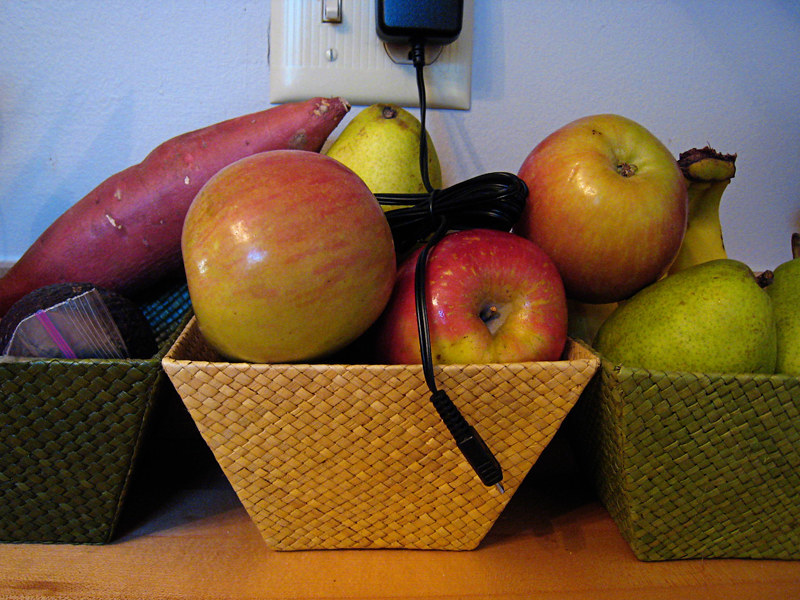apple: (174, 145, 399, 369), (516, 108, 691, 298), (386, 217, 569, 398)
